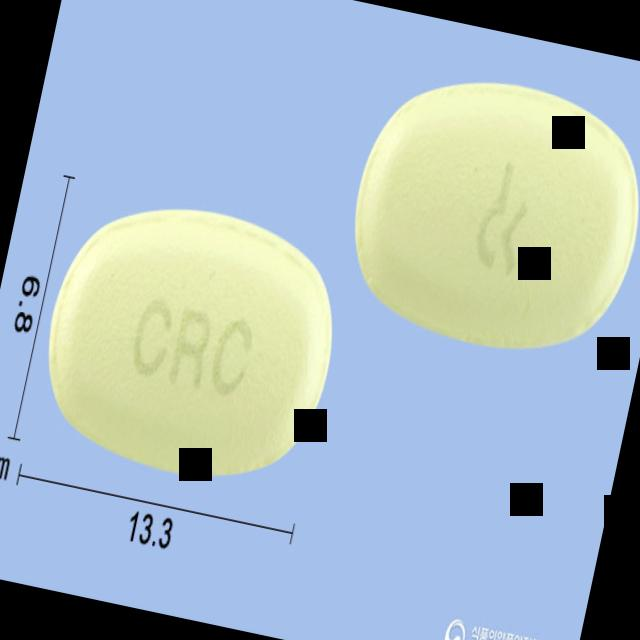Clirocin: (22, 175, 358, 504), (331, 52, 640, 376)
